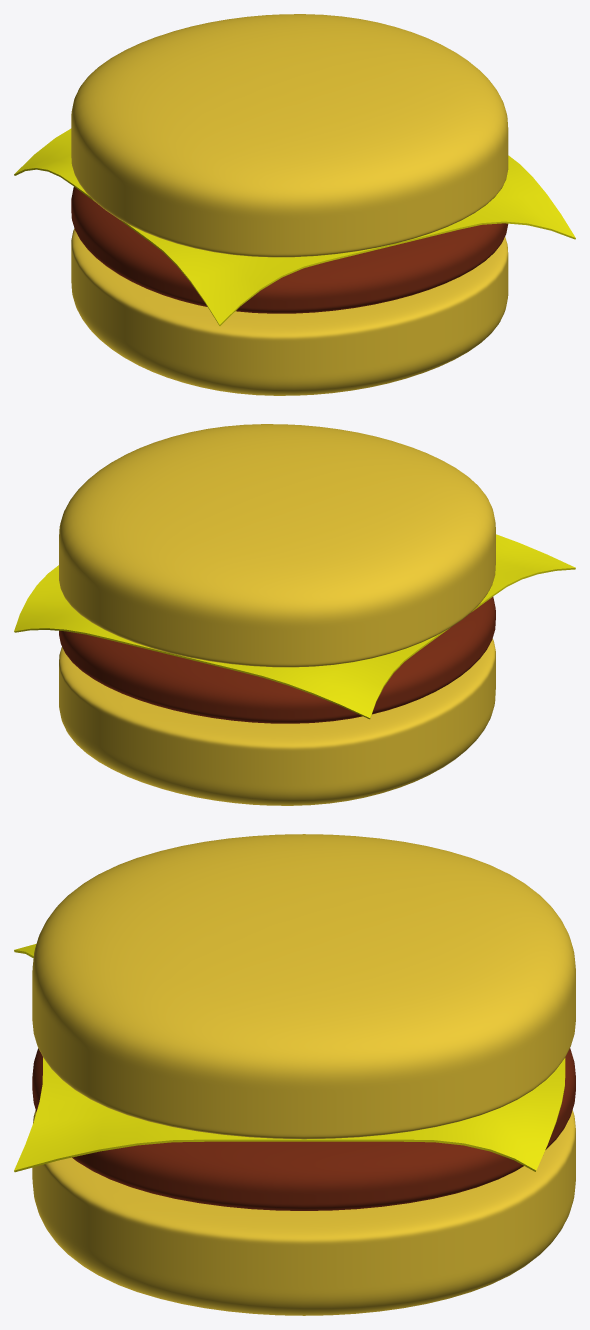
Rendered from Burga.glb.
3 views of the same model, one above another, from view 1: azimuth 30°, elevation 25°; view 2: azimuth 150°, elevation 25°; view 3: azimuth 270°, elevation 25° (orthographic). The views are drawn at different scales.
Parts seen in each view (by area): view 1: Cube.002, Cube, Cube.001, Plane; view 2: Cube.002, Cube, Cube.001, Plane; view 3: Cube.002, Cube, Cube.001, Plane.
Part boxes in pixels (bbox=[...]): Cube.002: bbox=[71, 14, 508, 257]; Cube: bbox=[71, 228, 508, 395]; Cube.001: bbox=[71, 187, 508, 313]; Plane: bbox=[14, 128, 575, 325]; Cube.002: bbox=[59, 424, 495, 667]; Cube: bbox=[59, 639, 495, 805]; Cube.001: bbox=[59, 597, 495, 723]; Plane: bbox=[14, 534, 575, 719]; Cube.002: bbox=[32, 834, 575, 1139]; Cube: bbox=[32, 1110, 575, 1315]; Cube.001: bbox=[32, 1048, 575, 1210]; Plane: bbox=[14, 944, 565, 1172].
Bounding box in the file's own units: 11.37 × 7.34 × 11.75.
